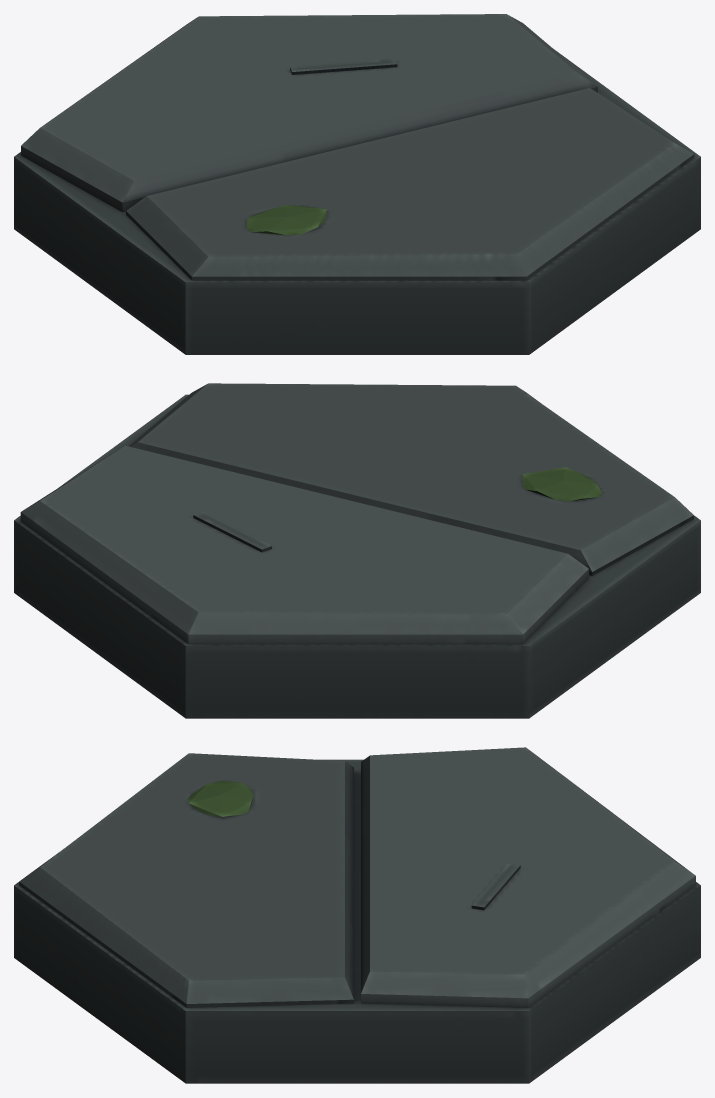
Rendered from tile_hex_stone_b.glb.
3 views of the same model, one above another, from view 1: azimuth 30°, elevation 25°; view 2: azimuth 150°, elevation 25°; view 3: azimuth 270°, elevation 25° (orthographic).
Visible parts, largest first — view 1: tile_hex_stone_b; view 2: tile_hex_stone_b; view 3: tile_hex_stone_b.
Part boxes in pixels (box(x1,y1,x2,y2)): tile_hex_stone_b: box(14, 14, 700, 354); tile_hex_stone_b: box(14, 383, 700, 718); tile_hex_stone_b: box(14, 747, 700, 1083).
Size of the model in its own units: 1.12 by 0.206 by 1.29.
1 material, 1 textured.
